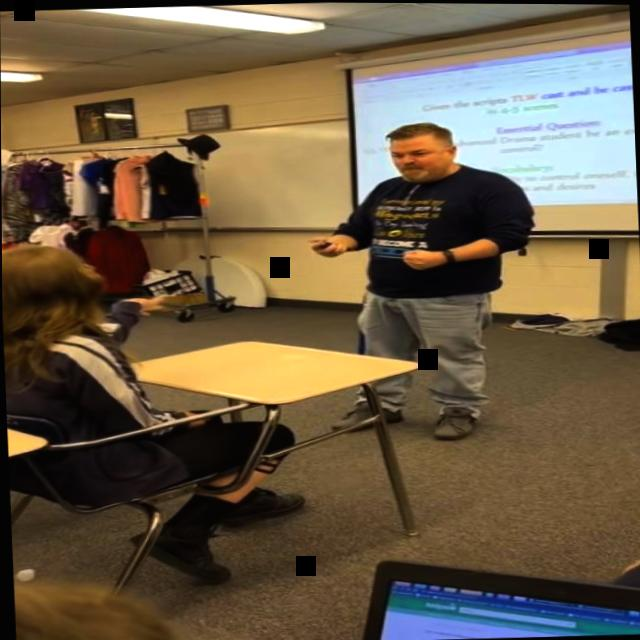NO-Mask: (388, 126, 458, 180)
